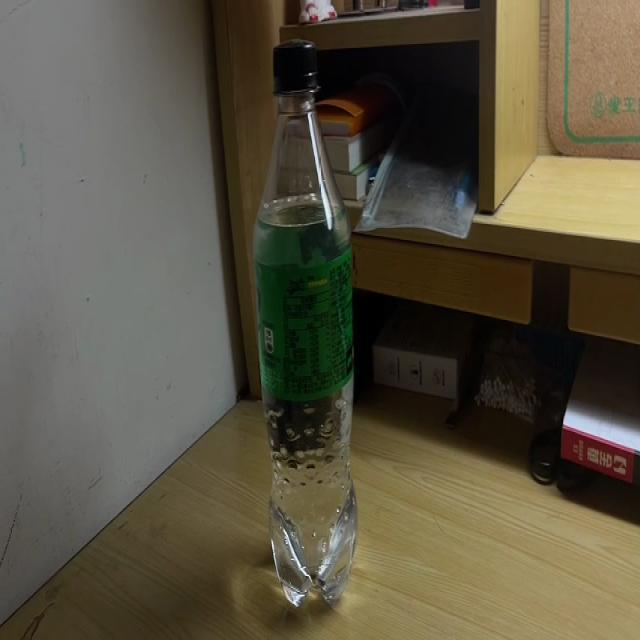Sprite: (254, 42, 356, 613)
